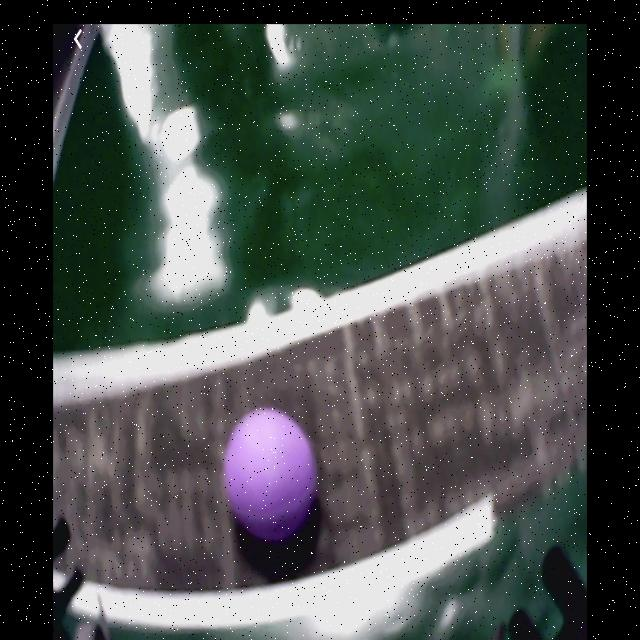ball: (228, 412, 317, 542)
